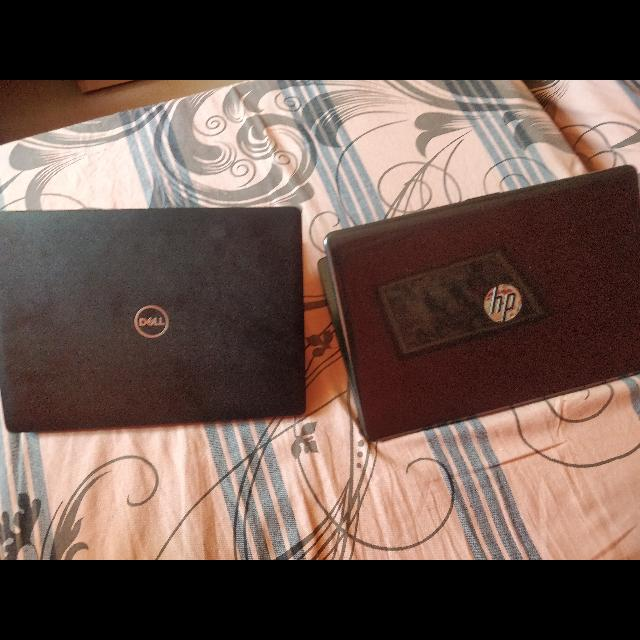Laptop: (312, 161, 640, 449), (0, 202, 312, 434)
